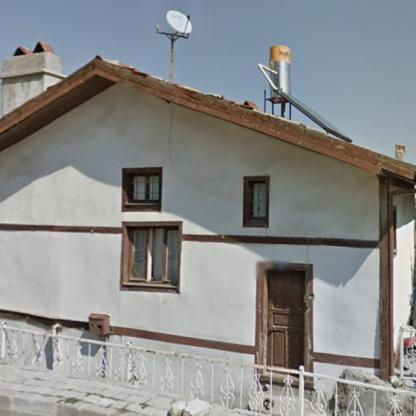door: (266, 272, 304, 376)
window: (129, 227, 178, 285), (130, 174, 159, 201), (251, 182, 266, 218)
